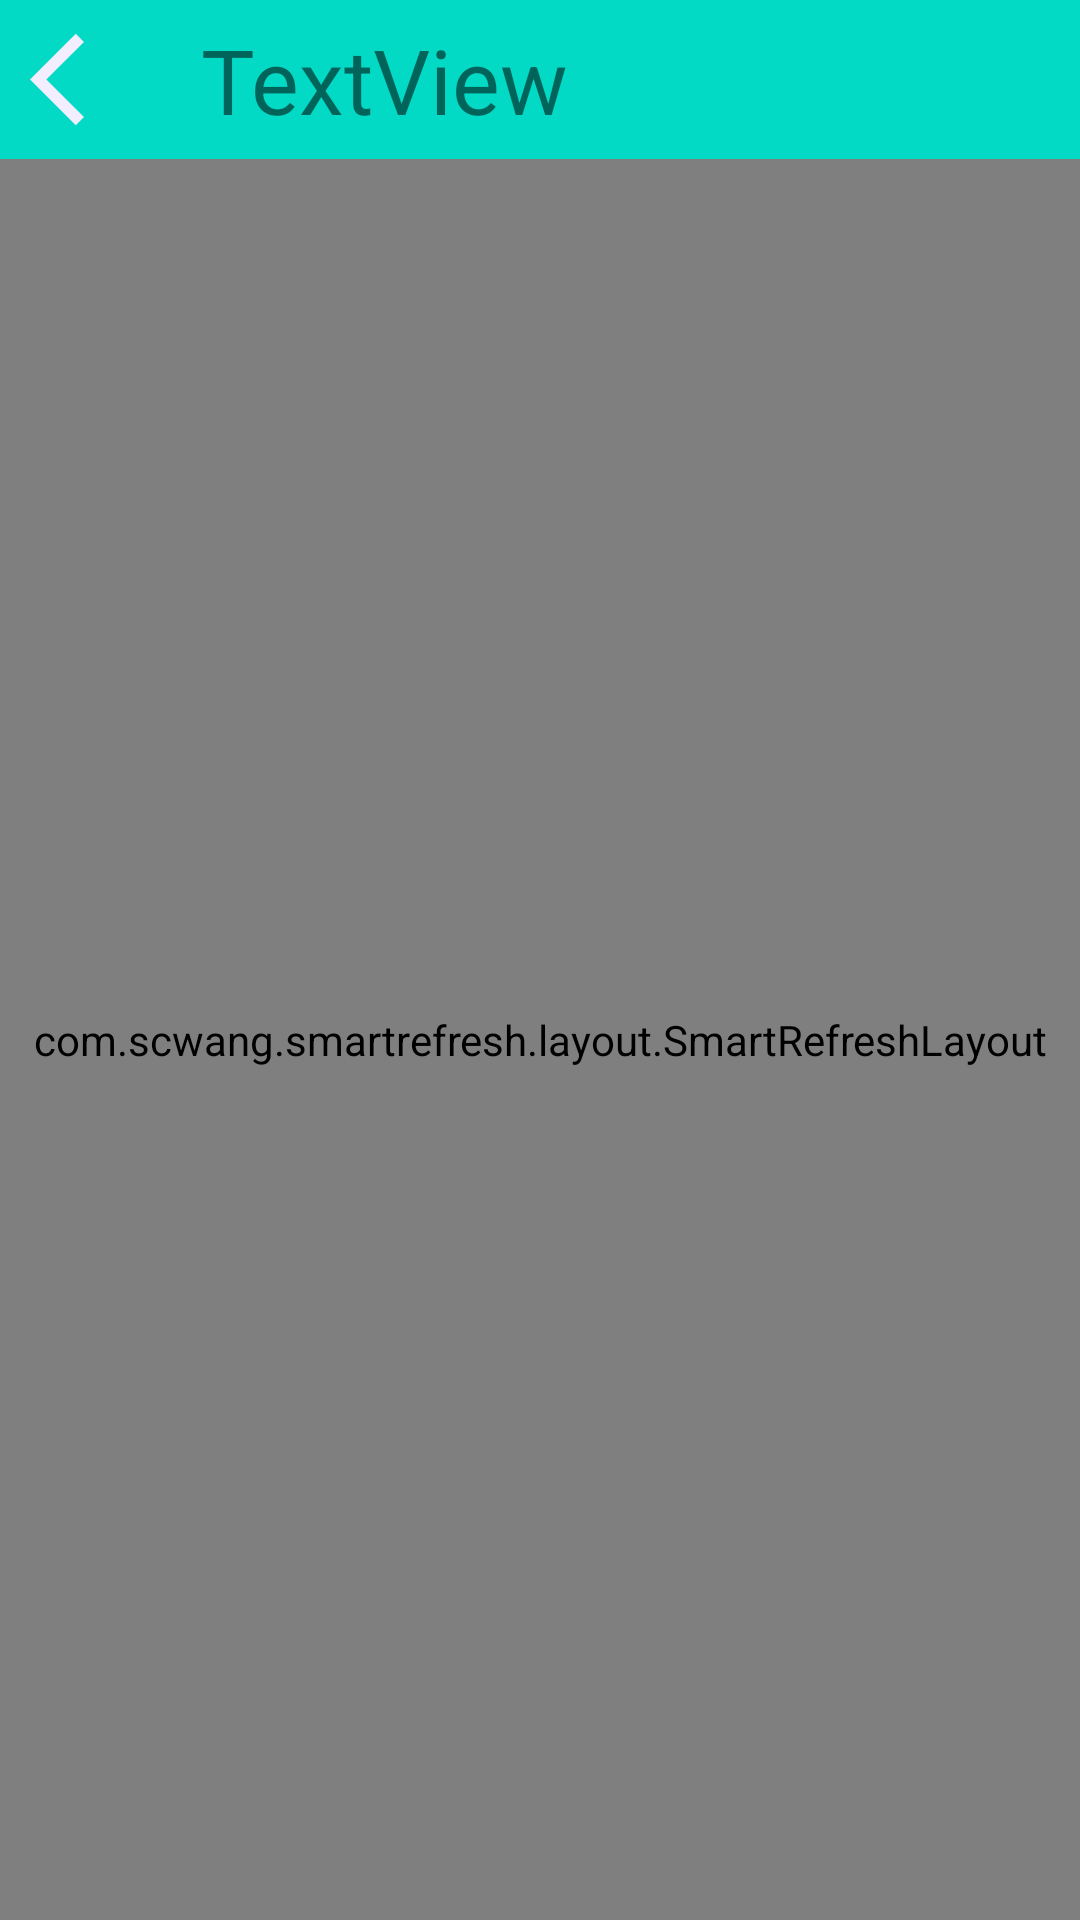

Screen size 1080px x 1920px. Icon name, then its center in pixels as point (x, y):
arrow back: point (57, 79)
